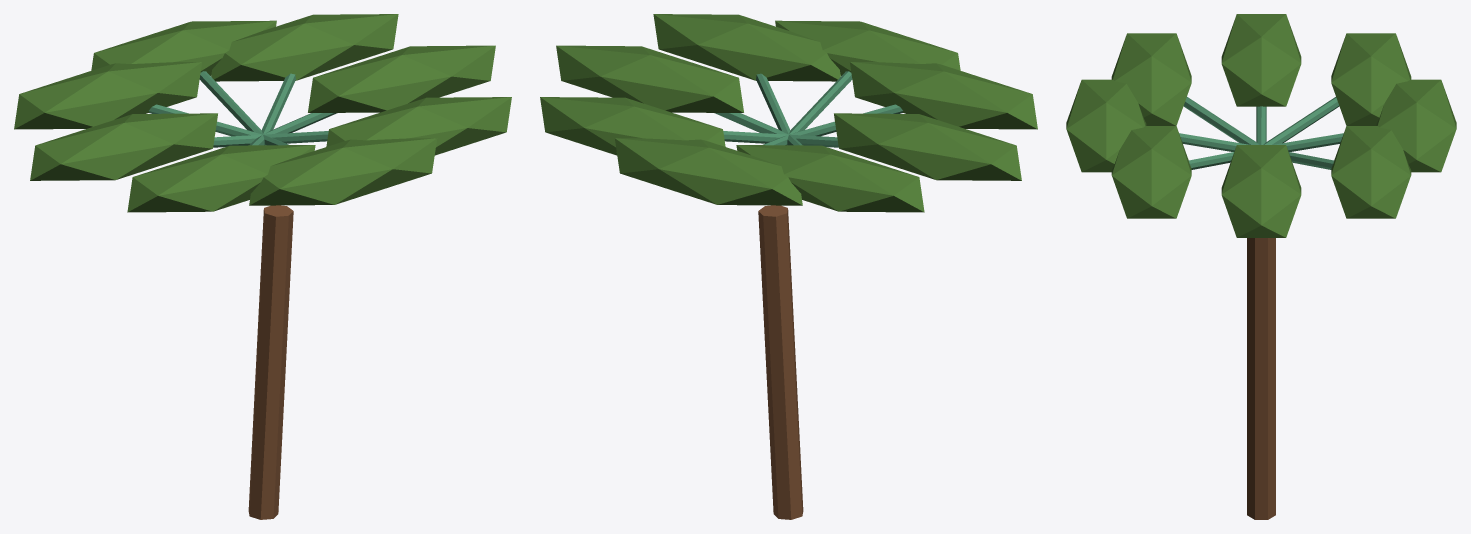
Rendered from tree_15.glb.
The picture shows the model from 3 angles, left to right: view 1: azimuth 30°, elevation 25°; view 2: azimuth 150°, elevation 25°; view 3: azimuth 270°, elevation 25°; orthographic projection. The views are drawn at different scales.
Parts seen in each view (by area): view 1: tree_15; view 2: tree_15; view 3: tree_15.
Part boxes in pixels (x1,y1,x2,y2): tree_15: [14, 14, 511, 519]; tree_15: [540, 14, 1037, 519]; tree_15: [1066, 14, 1456, 519].
Size of the model in its own units: 2.44 by 2.13 by 1.83.
